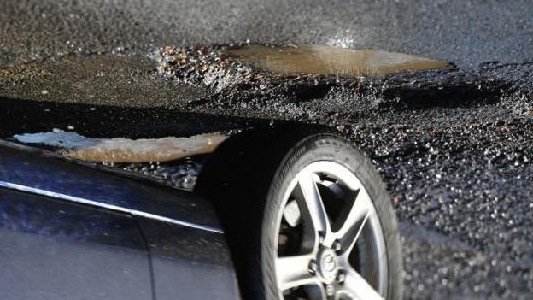pothole: (150, 38, 512, 114)
